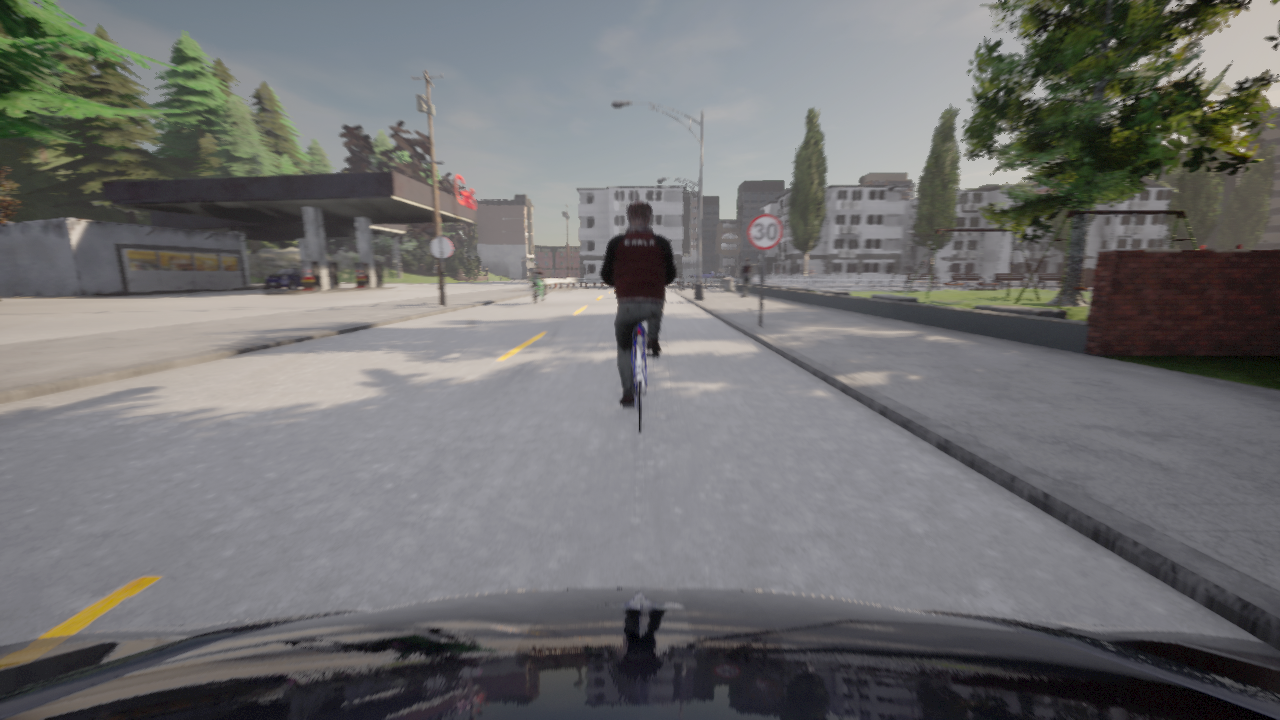cyclist: (0, 588, 1279, 719), (622, 323, 658, 432), (264, 268, 302, 289), (525, 274, 547, 304), (815, 274, 834, 286), (689, 271, 714, 277), (713, 272, 733, 277), (720, 276, 722, 277), (882, 280, 883, 281)
pedestrian: (741, 257, 753, 296), (809, 266, 815, 275), (966, 272, 968, 273)
